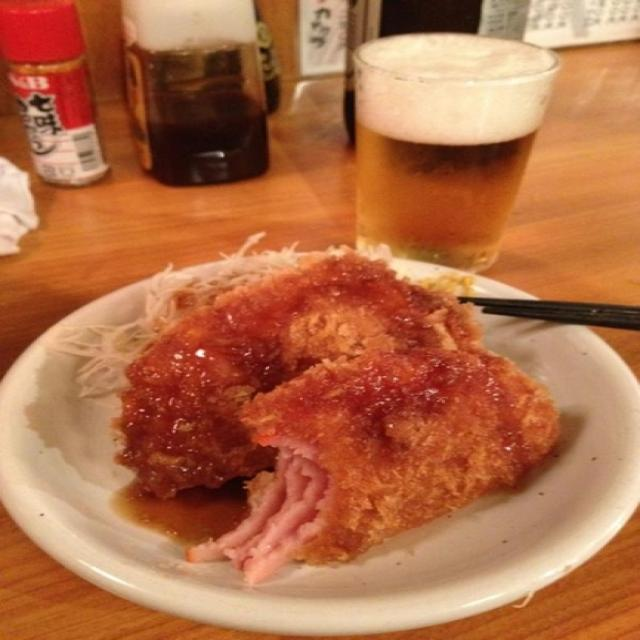炸货点心: (120, 245, 553, 565)
